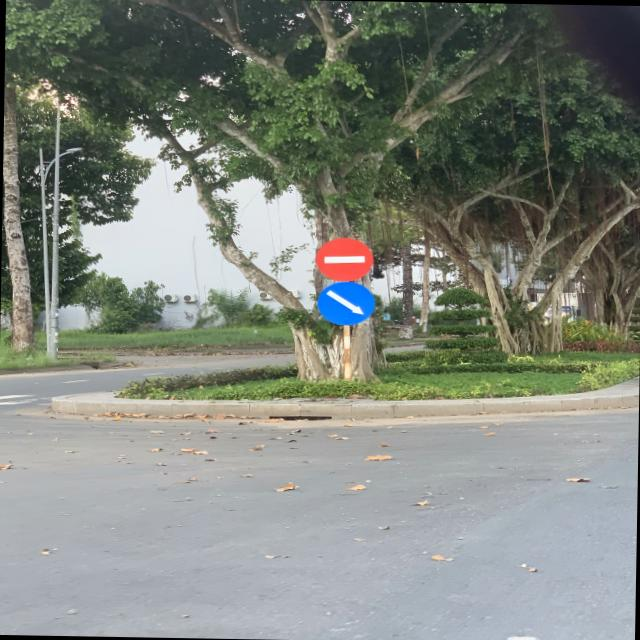Cam_Di_Nguoc_Chieu: (315, 237, 372, 280)
Chi_Huong_Di_Phai: (318, 280, 376, 326)
